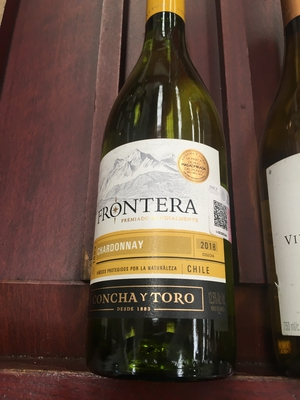frontera chardonnay: (76, 14, 237, 391)
